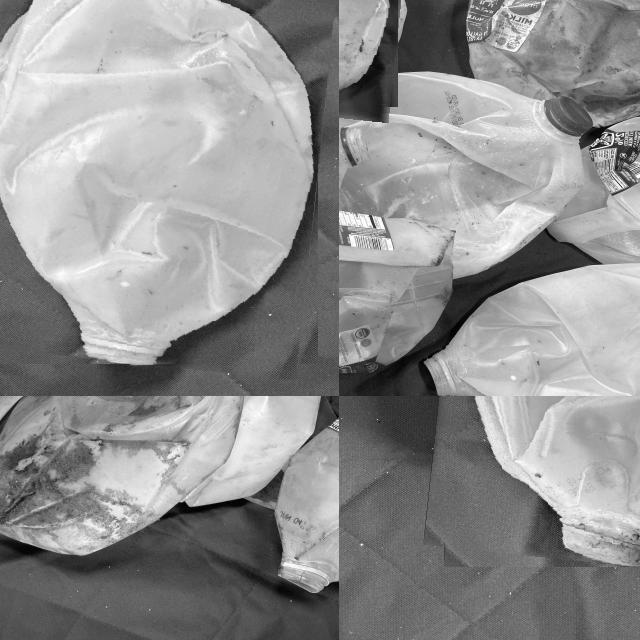milk-jug: (0, 0, 328, 371), (360, 70, 593, 272), (0, 396, 239, 557), (433, 396, 640, 575), (413, 272, 640, 396), (462, 0, 640, 126), (339, 209, 443, 377), (185, 396, 339, 506), (273, 396, 339, 597)
